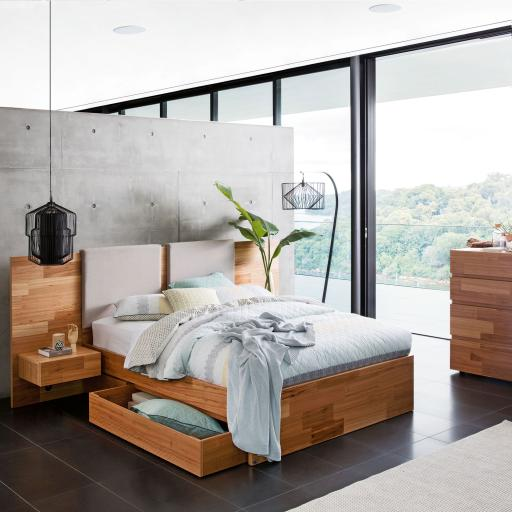bed: (9, 240, 414, 477)
